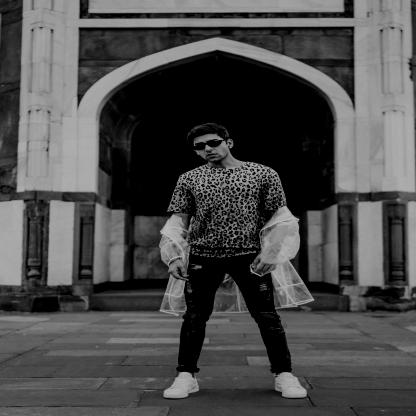dress: (162, 162, 290, 258)
